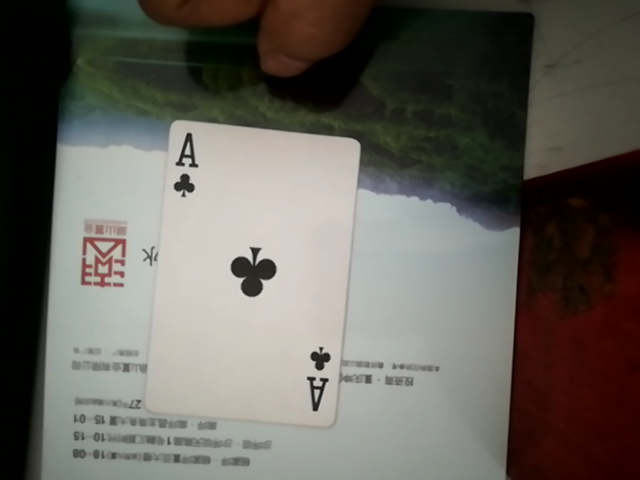mh a: (143, 114, 359, 426)
